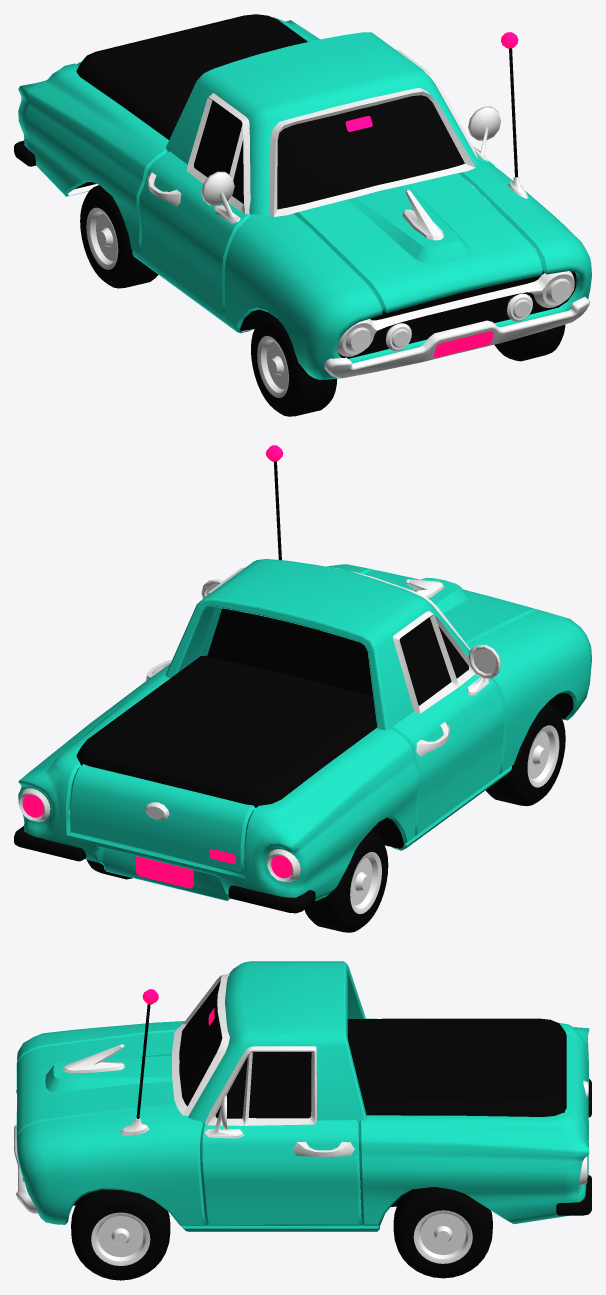
File: ute-uncompressed.glb
3 views of the same model, one above another, from view 1: azimuth 30°, elevation 25°; view 2: azimuth 150°, elevation 25°; view 3: azimuth 270°, elevation 25° (orthographic). The views are drawn at different scales.
Visible parts, largest first — view 1: Body, Hood, Front Glass, Cab, Trunk Cover, Doors, Tire.fr, Tire.br, Front Bumber, Front Grill, Side Glass, Headlight Rim (+8 smaller); view 2: Body, Trunk Cover, Cab, Trunk, Doors, Rear Window, Tire.br, Tire.fr, Hood, Side Glass, Rear Bumper, Side Glass Rim (+7 smaller); view 3: Body, Trunk Cover, Cab, Doors, Hood, Tire.fl, Tire.bl, Side Glass, Front Glass, Side Glass Rim, Trunk, Body Side Bottom (+5 smaller).
Part boxes in pixels (box(x1,y1,x2,y2)): Body: box(18, 17, 591, 379); Hood: box(294, 173, 543, 312); Front Glass: box(269, 87, 475, 216); Cab: box(165, 32, 478, 216); Trunk Cover: box(76, 14, 307, 139); Doors: box(139, 151, 494, 317); Tire.fr: box(251, 313, 336, 416); Tire.br: box(80, 185, 158, 288); Front Bumber: box(324, 296, 589, 378); Front Grill: box(338, 271, 576, 358); Side Glass: box(194, 100, 243, 203); Headlight Rim: box(337, 271, 574, 356); Body: box(18, 564, 591, 901); Trunk Cover: box(76, 655, 377, 807); Cab: box(165, 559, 469, 730); Trunk: box(69, 764, 255, 874); Doors: box(149, 664, 504, 835); Rear Window: box(207, 608, 373, 696); Tire.br: box(304, 830, 388, 932); Tire.fr: box(485, 703, 565, 805); Hood: box(364, 570, 539, 644); Side Glass: box(399, 617, 468, 705); Rear Bumper: box(14, 826, 315, 913); Side Glass Rim: box(207, 567, 474, 713); Body: box(16, 1018, 589, 1225); Trunk Cover: box(347, 1018, 566, 1116); Cab: box(188, 961, 366, 1123); Doors: box(200, 1120, 361, 1225); Hood: box(16, 1031, 176, 1137); Tire.fl: box(71, 1189, 170, 1280); Tire.bl: box(393, 1186, 492, 1278); Side Glass: box(215, 1052, 311, 1118); Front Glass: box(172, 974, 229, 1115); Side Glass Rim: box(204, 1046, 316, 1125); Trunk: box(565, 1034, 588, 1140); Body Side Bottom: box(181, 1225, 379, 1231).
Bounding box in the file's own units: 2.46 × 2.43 × 4.44.
